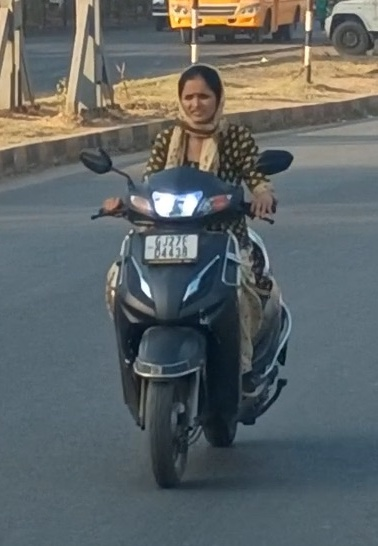BikeWithRider: (75, 58, 305, 495)
NoHelmet: (175, 60, 228, 128)
